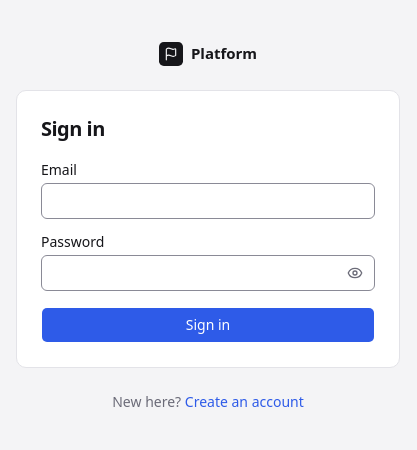
sign in › says the email or password is wrong without saying which
The width and height of the screenshot is (417, 450).
Type "user@example.com" into the field labelled "Email". click: (208, 201)
box: [41,183,375,219]
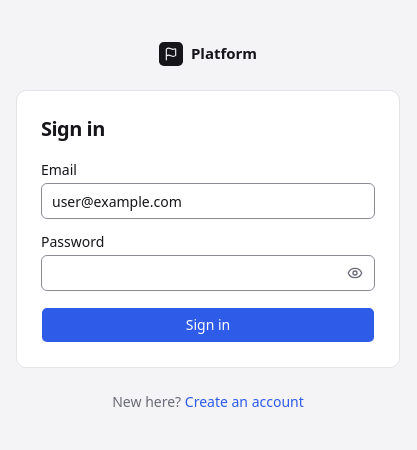
Type "wrong" into the password field labelled "Password". click: (208, 273)
box: [41,255,375,291]
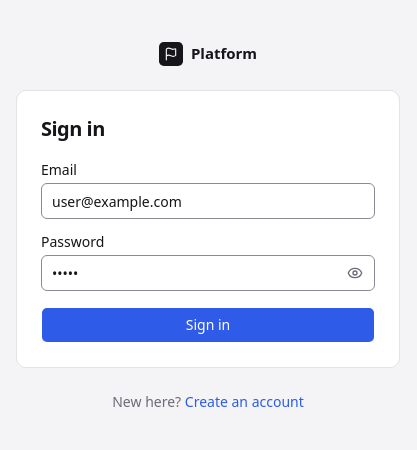
Click the button "Sign in". click: (208, 325)
box: [41,307,375,343]
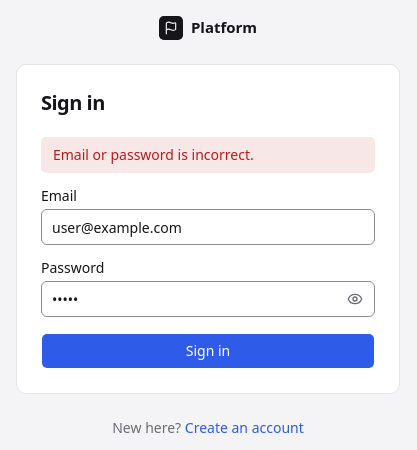
expect the message reads "Email or password is incorrect.": met, box [53,145,254,164]
